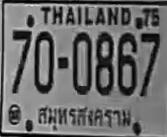0: (34, 30, 54, 93), (72, 32, 91, 94)
6: (117, 32, 136, 95)
7: (138, 32, 160, 98), (10, 30, 31, 95)
8: (95, 32, 113, 95)
SPK: (33, 101, 134, 137)
